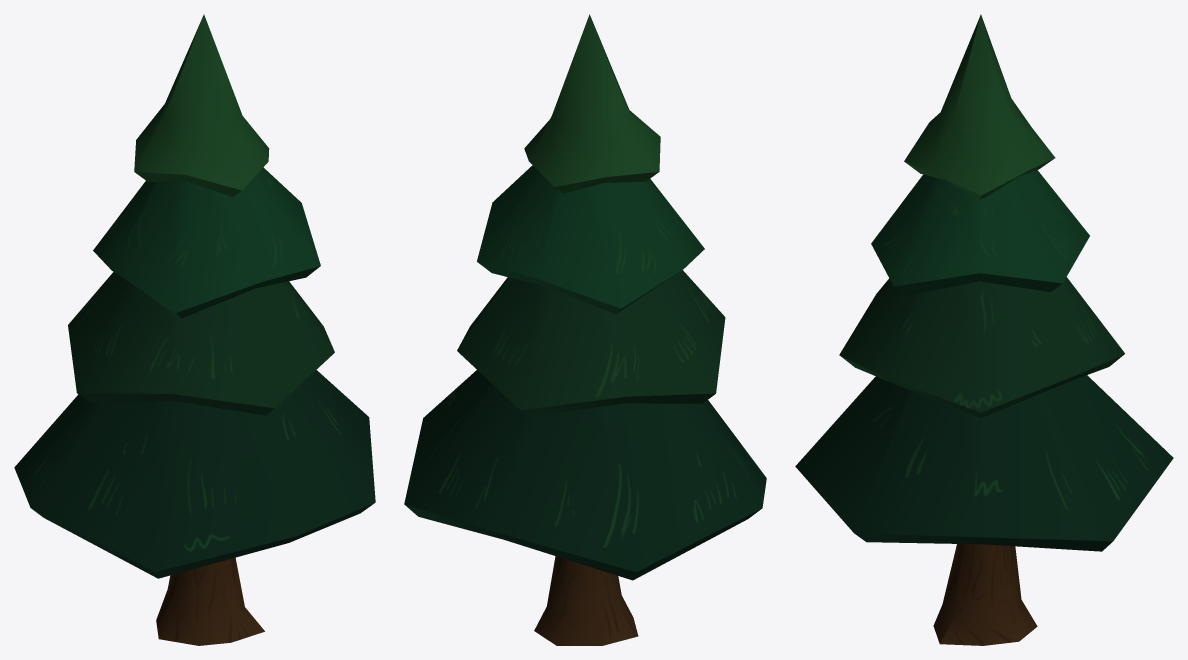
Rendered from elka2.fbx.
3 renders of one model, left to right at view 1: azimuth 30°, elevation 25°; view 2: azimuth 150°, elevation 25°; view 3: azimuth 270°, elevation 25°, orthographic.
Parts seen in each view (by area): view 1: Tree_Spruce_small_01; view 2: Tree_Spruce_small_01; view 3: Tree_Spruce_small_01.
Boxes of the visible parts, <box> form: Tree_Spruce_small_01: <box>14,14,375,645</box>; Tree_Spruce_small_01: <box>404,14,766,645</box>; Tree_Spruce_small_01: <box>795,14,1173,645</box>.
Bounding box in the file's own units: 1058 × 1826 × 1026.
